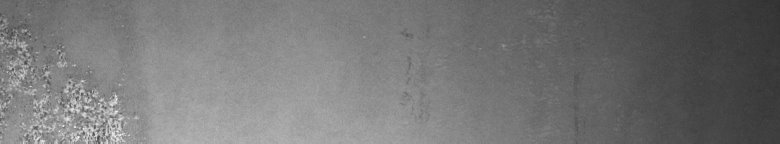hc: (4, 14, 143, 136)
